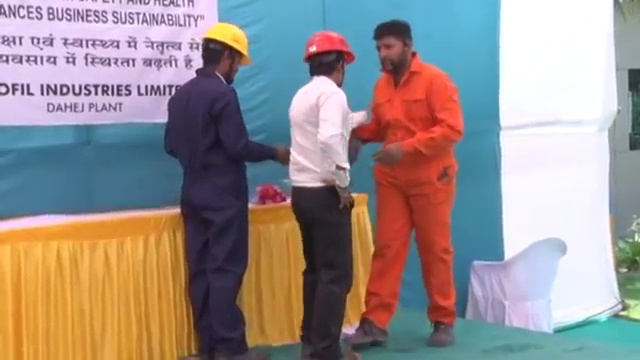helmet: (201, 20, 252, 65), (303, 29, 356, 64)
helmet_off: (371, 20, 414, 73)
helmet_on: (199, 20, 251, 85), (303, 29, 356, 86)
person: (163, 22, 288, 360), (348, 20, 461, 345), (285, 28, 367, 360)
